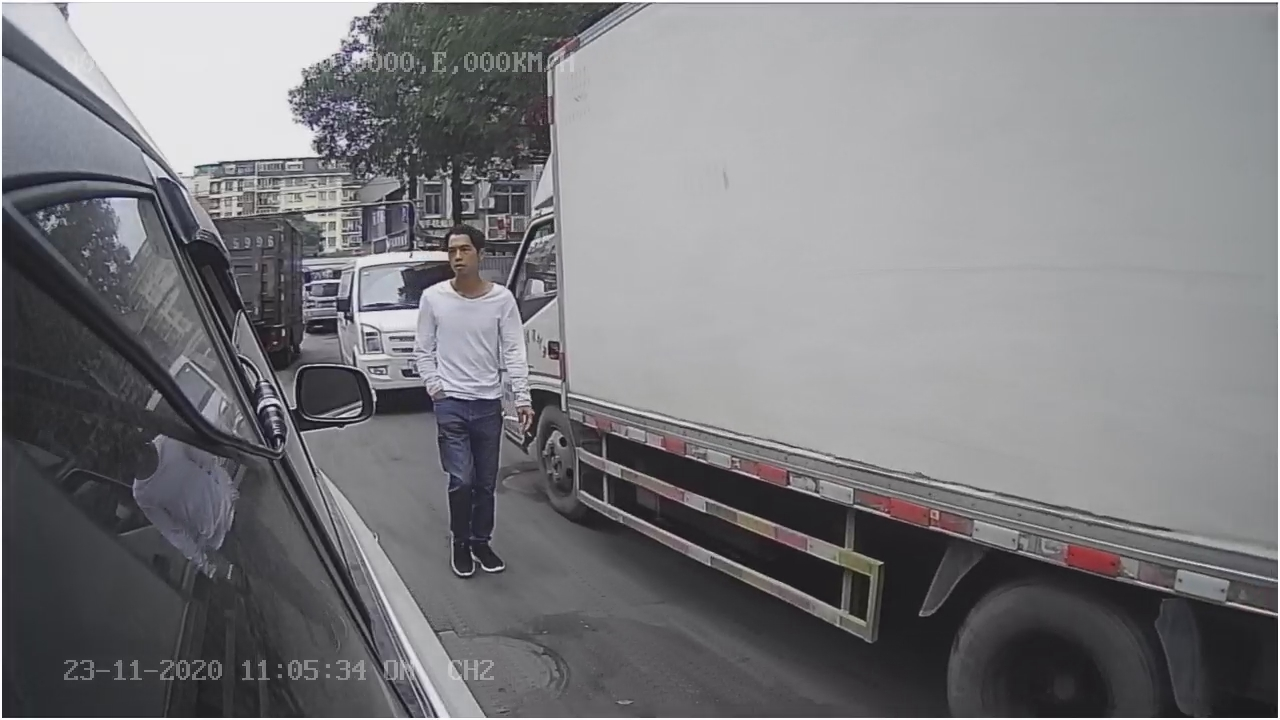person: (411, 219, 539, 591)
